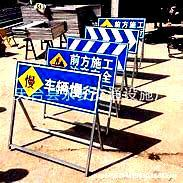sign: (18, 70, 100, 104), (50, 52, 116, 70), (99, 19, 145, 29)
